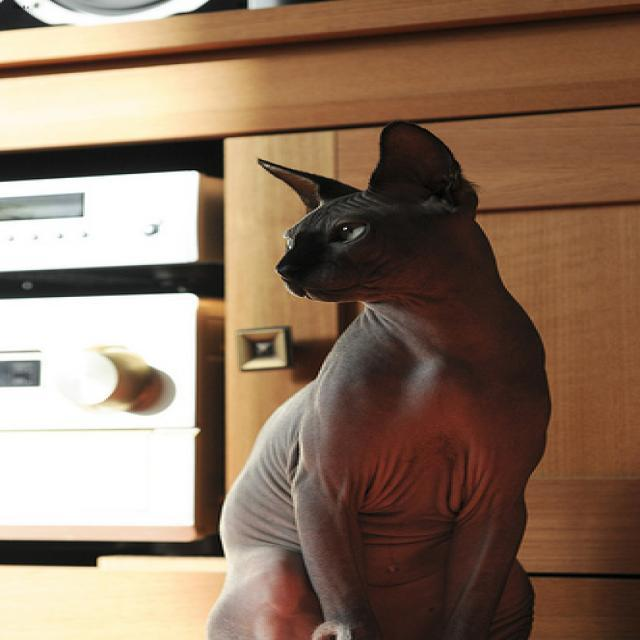Sphynx: (256, 119, 463, 300)
